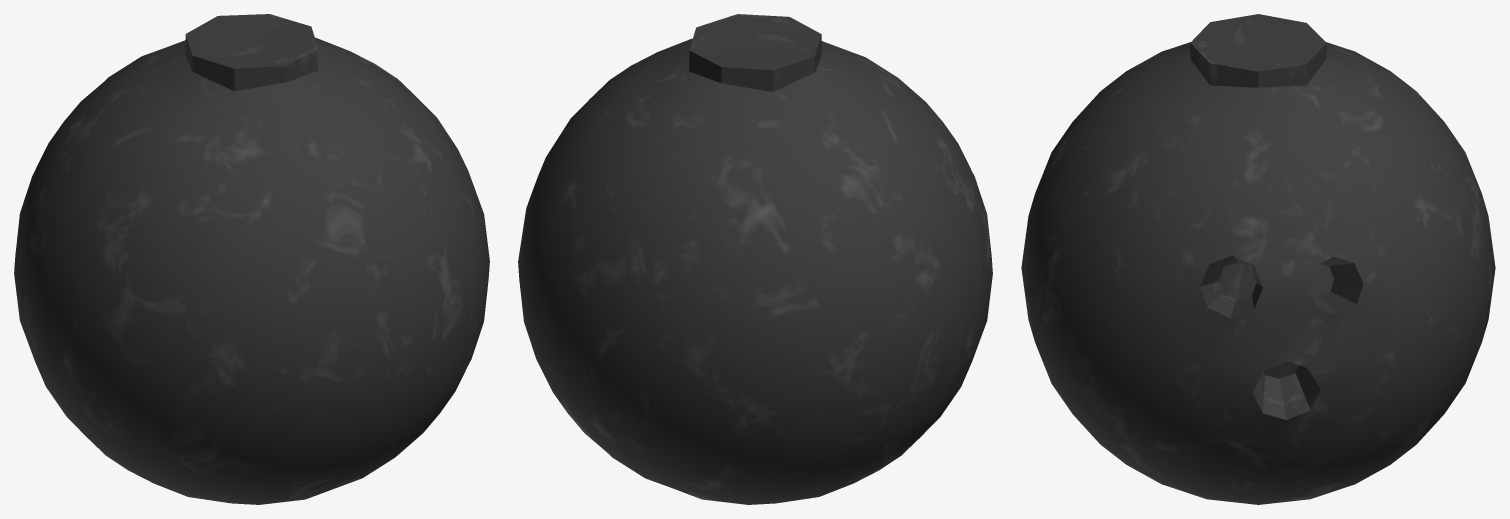
The model's file is Bomb ball.fbx.
The picture shows the model from 3 angles, left to right: view 1: azimuth 30°, elevation 25°; view 2: azimuth 150°, elevation 25°; view 3: azimuth 270°, elevation 25°; orthographic projection.
Visible parts, largest first — view 1: Low poly watermelon ball.002; view 2: Low poly watermelon ball.002; view 3: Low poly watermelon ball.002.
Part boxes in pixels (bbox=[...]): Low poly watermelon ball.002: bbox=[14, 14, 489, 504]; Low poly watermelon ball.002: bbox=[518, 14, 992, 504]; Low poly watermelon ball.002: bbox=[1021, 14, 1495, 504].
Bounding box in the file's own units: 40.46 × 41.55 × 40.55.
1 material, 1 textured.
